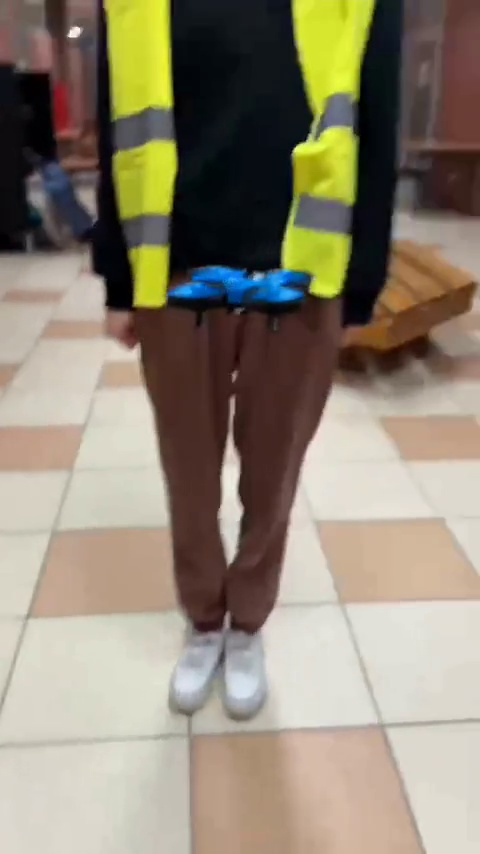drone: (162, 267, 316, 331)
vest: (89, 60, 393, 739)
